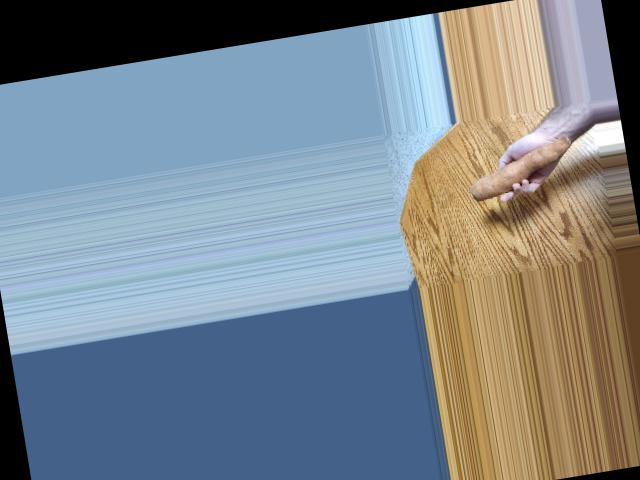sweet_potato: (462, 132, 579, 204)
